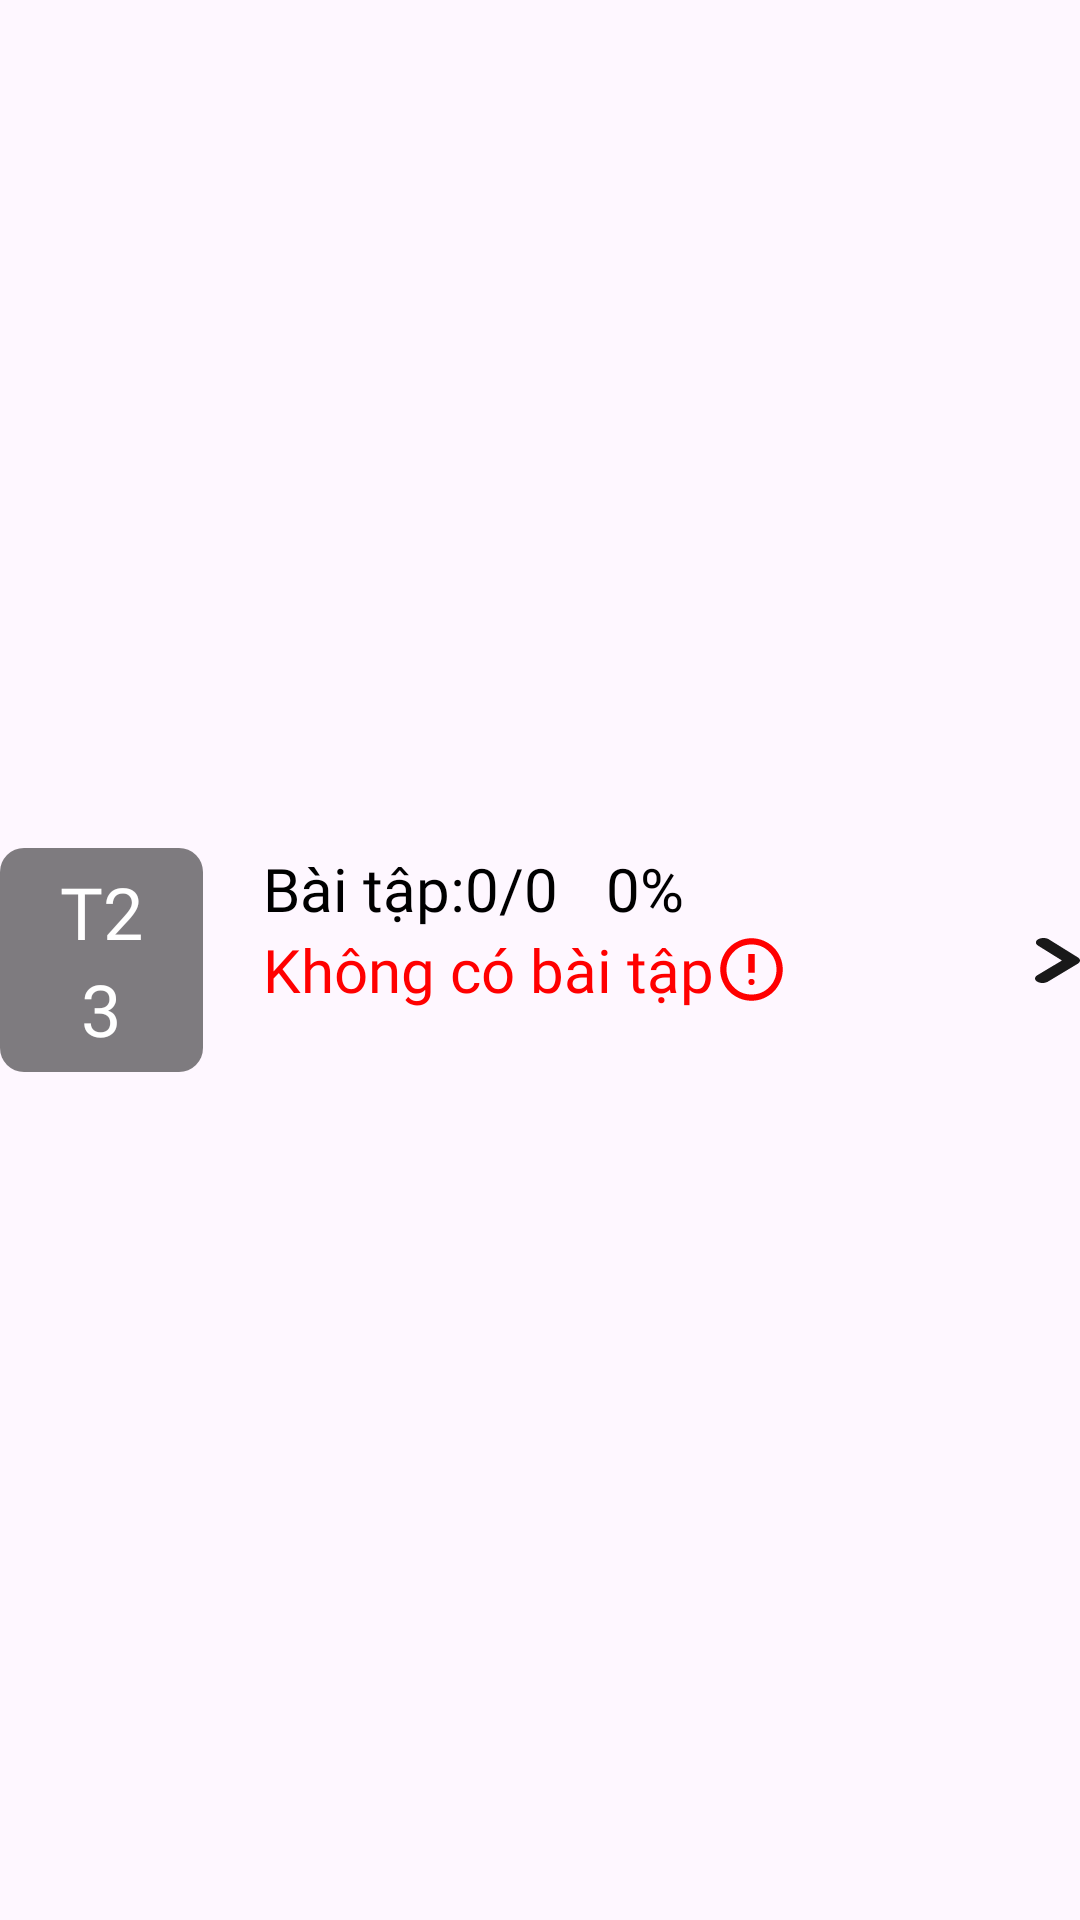

Where icons sit on this 1080x1920 app screen, as [x1, y1, x2, y2]:
error: [720, 938, 783, 1001]
next: [1035, 938, 1080, 983]
